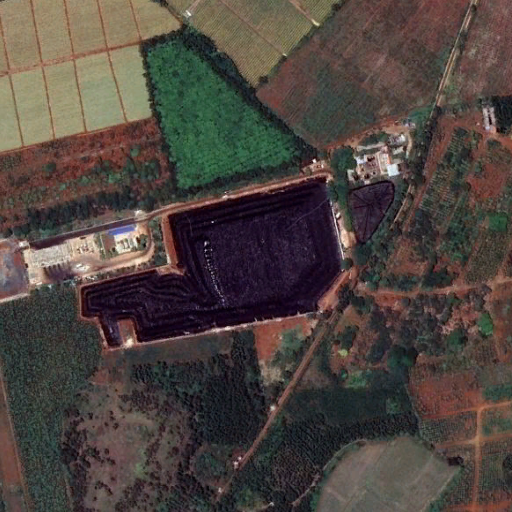lf: (77, 173, 343, 350)
